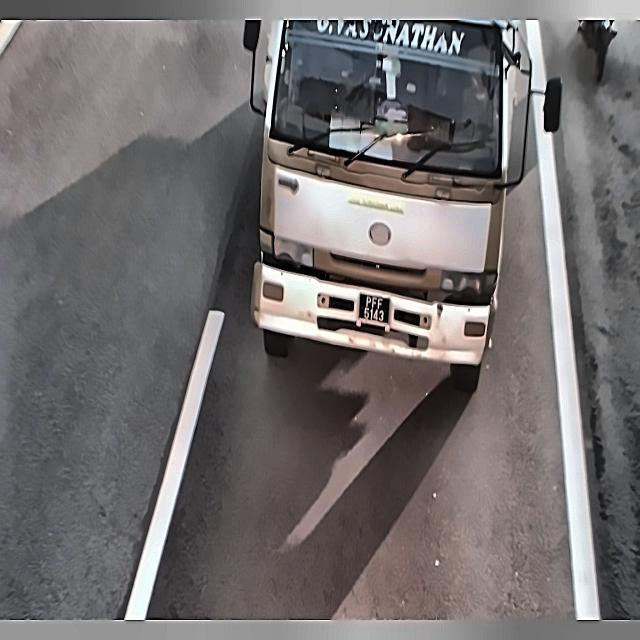car: (354, 286, 396, 332)
